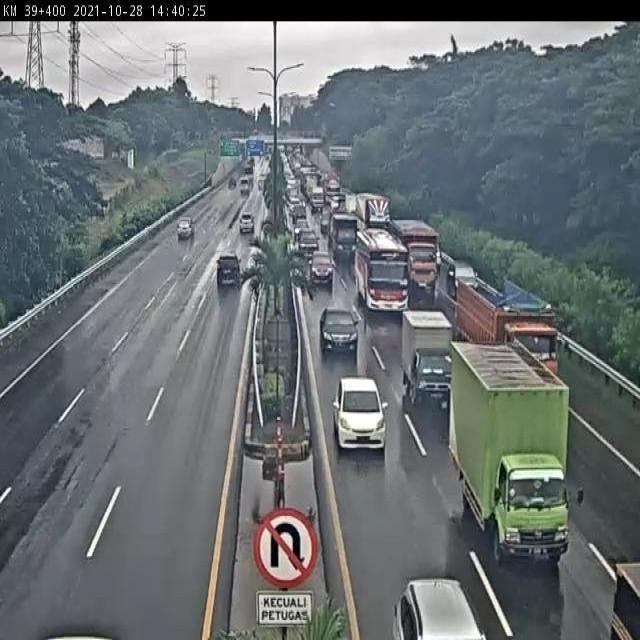bus-l-: (355, 223, 409, 312)
car: (332, 377, 389, 455), (318, 308, 360, 353), (446, 259, 481, 300), (217, 253, 244, 284), (310, 252, 335, 283), (298, 230, 320, 254), (175, 216, 196, 240), (236, 212, 255, 233)
truck-l-: (460, 276, 560, 387), (393, 216, 439, 292)
truck-m-: (450, 342, 568, 558), (330, 209, 359, 256)
truck-s-: (402, 312, 455, 403)
